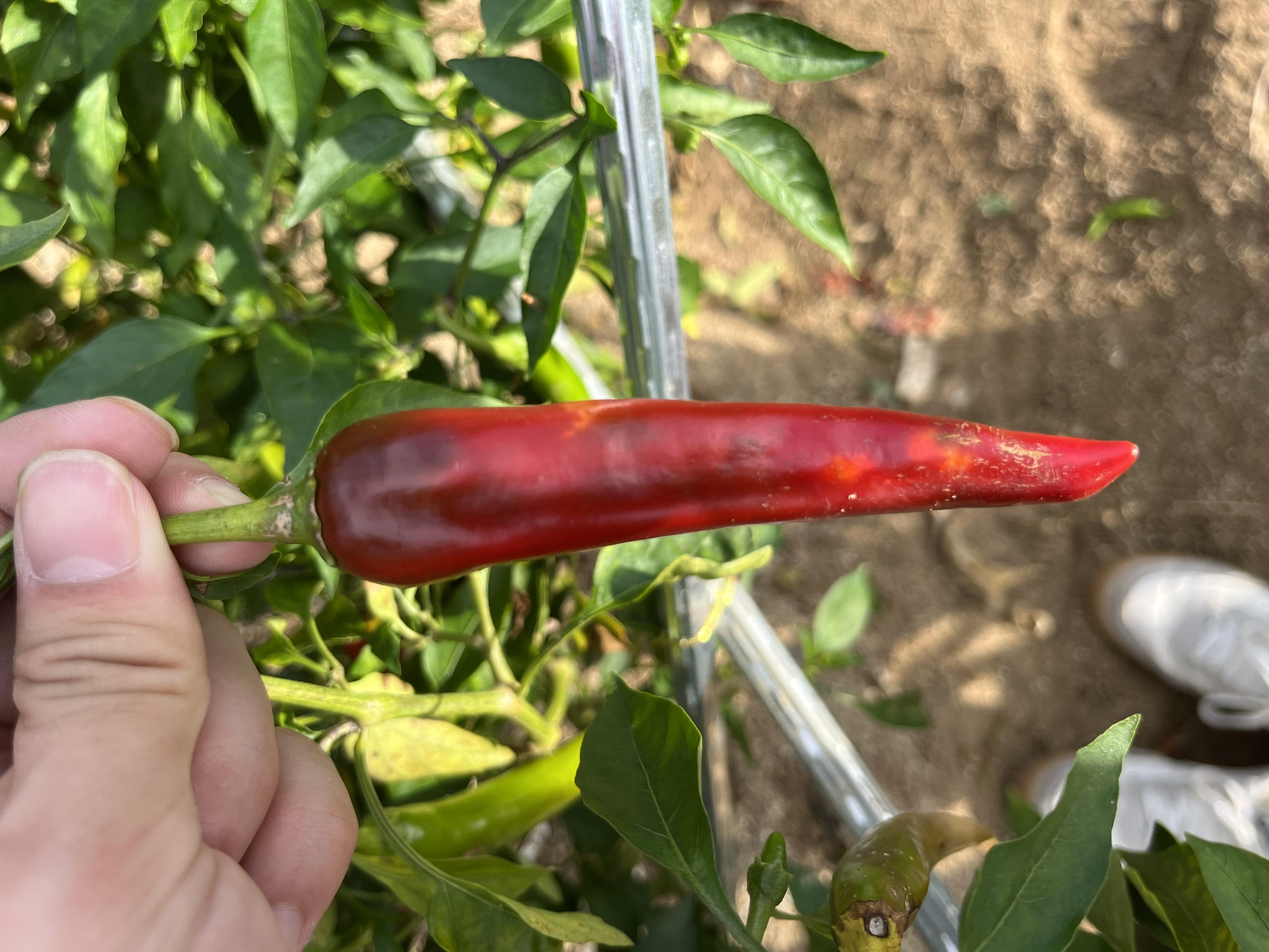Buah Cabai Sehat: (464, 215, 765, 862)
